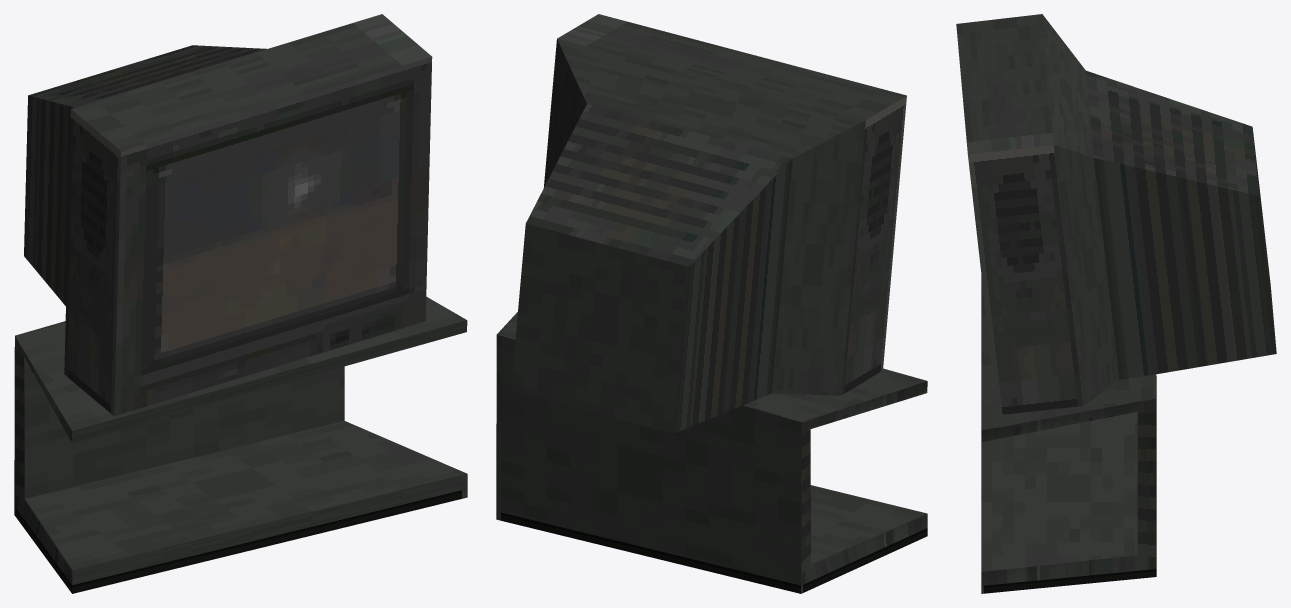
3 renders of one model, left to right at view 1: azimuth 30°, elevation 25°; view 2: azimuth 150°, elevation 25°; view 3: azimuth 270°, elevation 25°, orthographic. The views are drawn at different scales.
Visible parts, largest first — view 1: TV_01; view 2: TV_01; view 3: TV_01.
Boxes of the visible parts, box(x1,y1,x2,y2) form: TV_01: box(14, 14, 467, 593); TV_01: box(496, 14, 927, 593); TV_01: box(956, 14, 1276, 593).
Size of the model in its own units: 0.907 by 1.02 by 0.692.
Materials: 1 (1 with a texture image).
